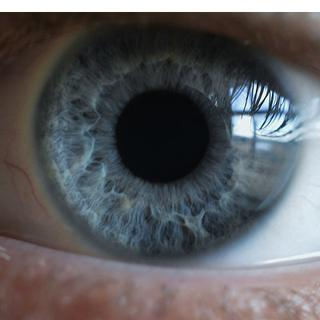pupil: (116, 91, 207, 183)
